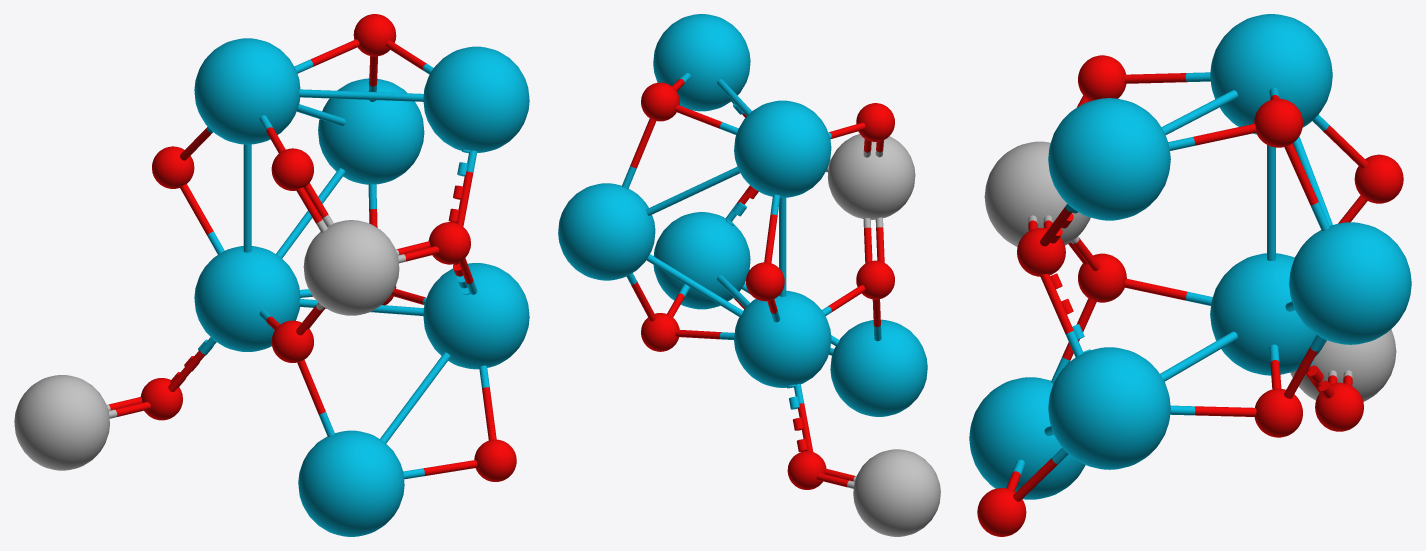
The model's file is Na3VO4_cart.glb.
3 views of the same model, side by side, from view 1: azimuth 30°, elevation 25°; view 2: azimuth 150°, elevation 25°; view 3: azimuth 270°, elevation 25° (orthographic). The views are drawn at different scales.
Parts seen in each view (by area): view 1: Na01, Na06, Na05, Na02, Na03, Na04, V07, V08, O15, O09, O14, O13 (+14 smaller); view 2: Na05, Na04, Na01, Na03, Na06, Na02, V07, V08, O14, O16, O12, O10 (+12 smaller); view 3: Na06, Na02, Na04, Na05, Na03, Na01, V08, V07, O16, O14, O09, O11 (+19 smaller).
Part boxes in pixels (left/top/right/bottom): Na01: left=298, top=430, right=404, bottom=536; Na06: left=423, top=46, right=529, bottom=152; Na05: left=194, top=38, right=300, bottom=144; Na02: left=423, top=263, right=529, bottom=369; Na03: left=194, top=246, right=300, bottom=351; Na04: left=318, top=78, right=424, bottom=184; V07: left=14, top=375, right=109, bottom=470; V08: left=303, top=220, right=399, bottom=315; O15: left=271, top=148, right=313, bottom=190; O09: left=474, top=439, right=516, bottom=481; O14: left=152, top=146, right=194, bottom=188; O13: left=428, top=222, right=470, bottom=264; Na05: left=734, top=100, right=831, bottom=197; Na04: left=558, top=183, right=655, bottom=280; Na01: left=830, top=319, right=927, bottom=416; Na03: left=734, top=290, right=831, bottom=387; Na06: left=653, top=14, right=750, bottom=111; Na02: left=653, top=212, right=750, bottom=309; V07: left=853, top=449, right=940, bottom=536; V08: left=827, top=134, right=915, bottom=219; O14: left=746, top=262, right=784, bottom=301; O16: left=641, top=82, right=679, bottom=121; O12: left=856, top=260, right=894, bottom=299; O10: left=787, top=451, right=826, bottom=489; Na06: left=1048, top=98, right=1170, bottom=220; Na02: left=1048, top=347, right=1170, bottom=469; Na04: left=1289, top=222, right=1411, bottom=344; Na05: left=1210, top=14, right=1332, bottom=134; Na03: left=1210, top=253, right=1326, bottom=375; Na01: left=969, top=377, right=1085, bottom=499; V08: left=984, top=141, right=1090, bottom=246; V07: left=1290, top=329, right=1396, bottom=401; O16: left=1254, top=98, right=1302, bottom=147; O14: left=1354, top=154, right=1403, bottom=203; O09: left=977, top=488, right=1026, bottom=536; O11: left=1254, top=388, right=1302, bottom=437.
Bounding box in the file's own units: 6.96 × 6.9 × 5.77.
